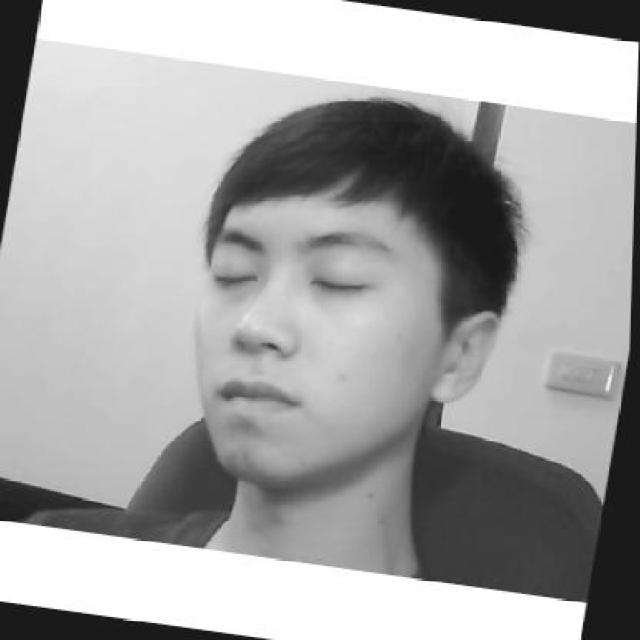inattentif: (168, 75, 534, 514)
